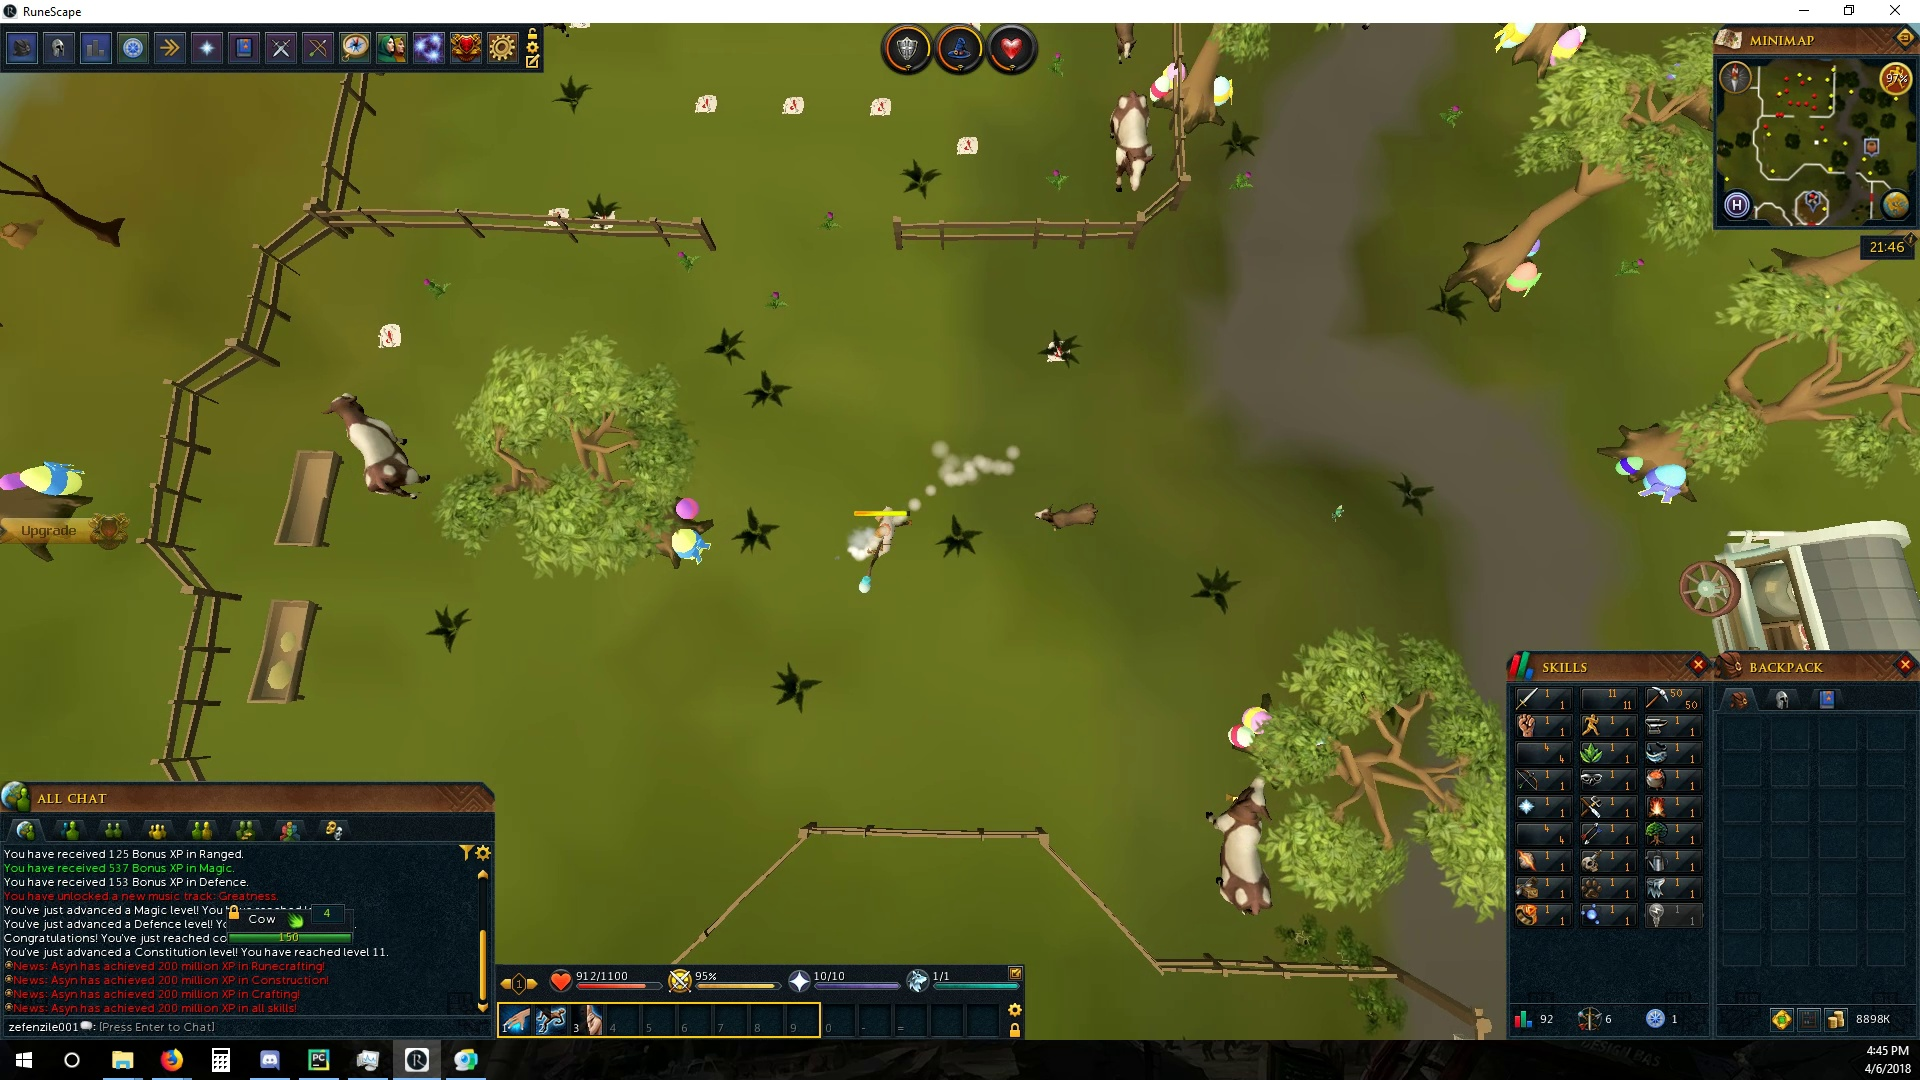calf: (1033, 498, 1101, 537), (1108, 22, 1139, 65)
cow: (322, 392, 436, 502), (1203, 774, 1280, 922), (1105, 88, 1159, 200)
cow_drop: (375, 316, 404, 348), (537, 202, 570, 227), (953, 136, 985, 161), (777, 92, 807, 117), (1038, 342, 1069, 364), (691, 90, 717, 115), (865, 96, 895, 117)
